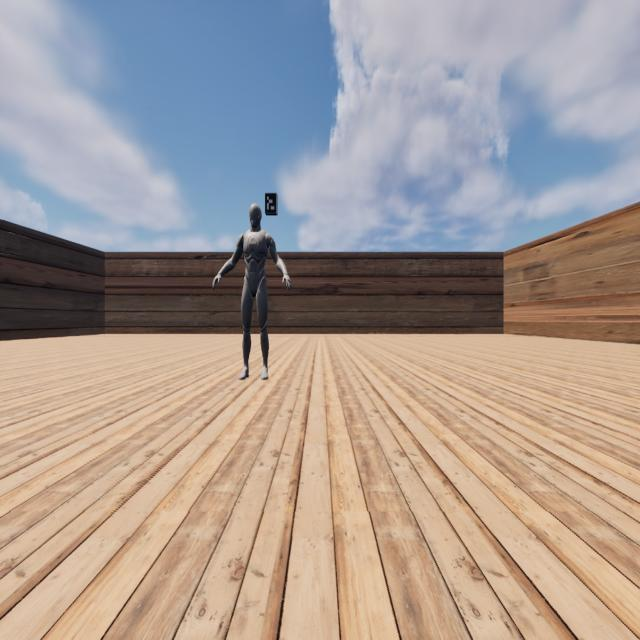aruco: (265, 193, 276, 213)
hip: (244, 277, 266, 285)
